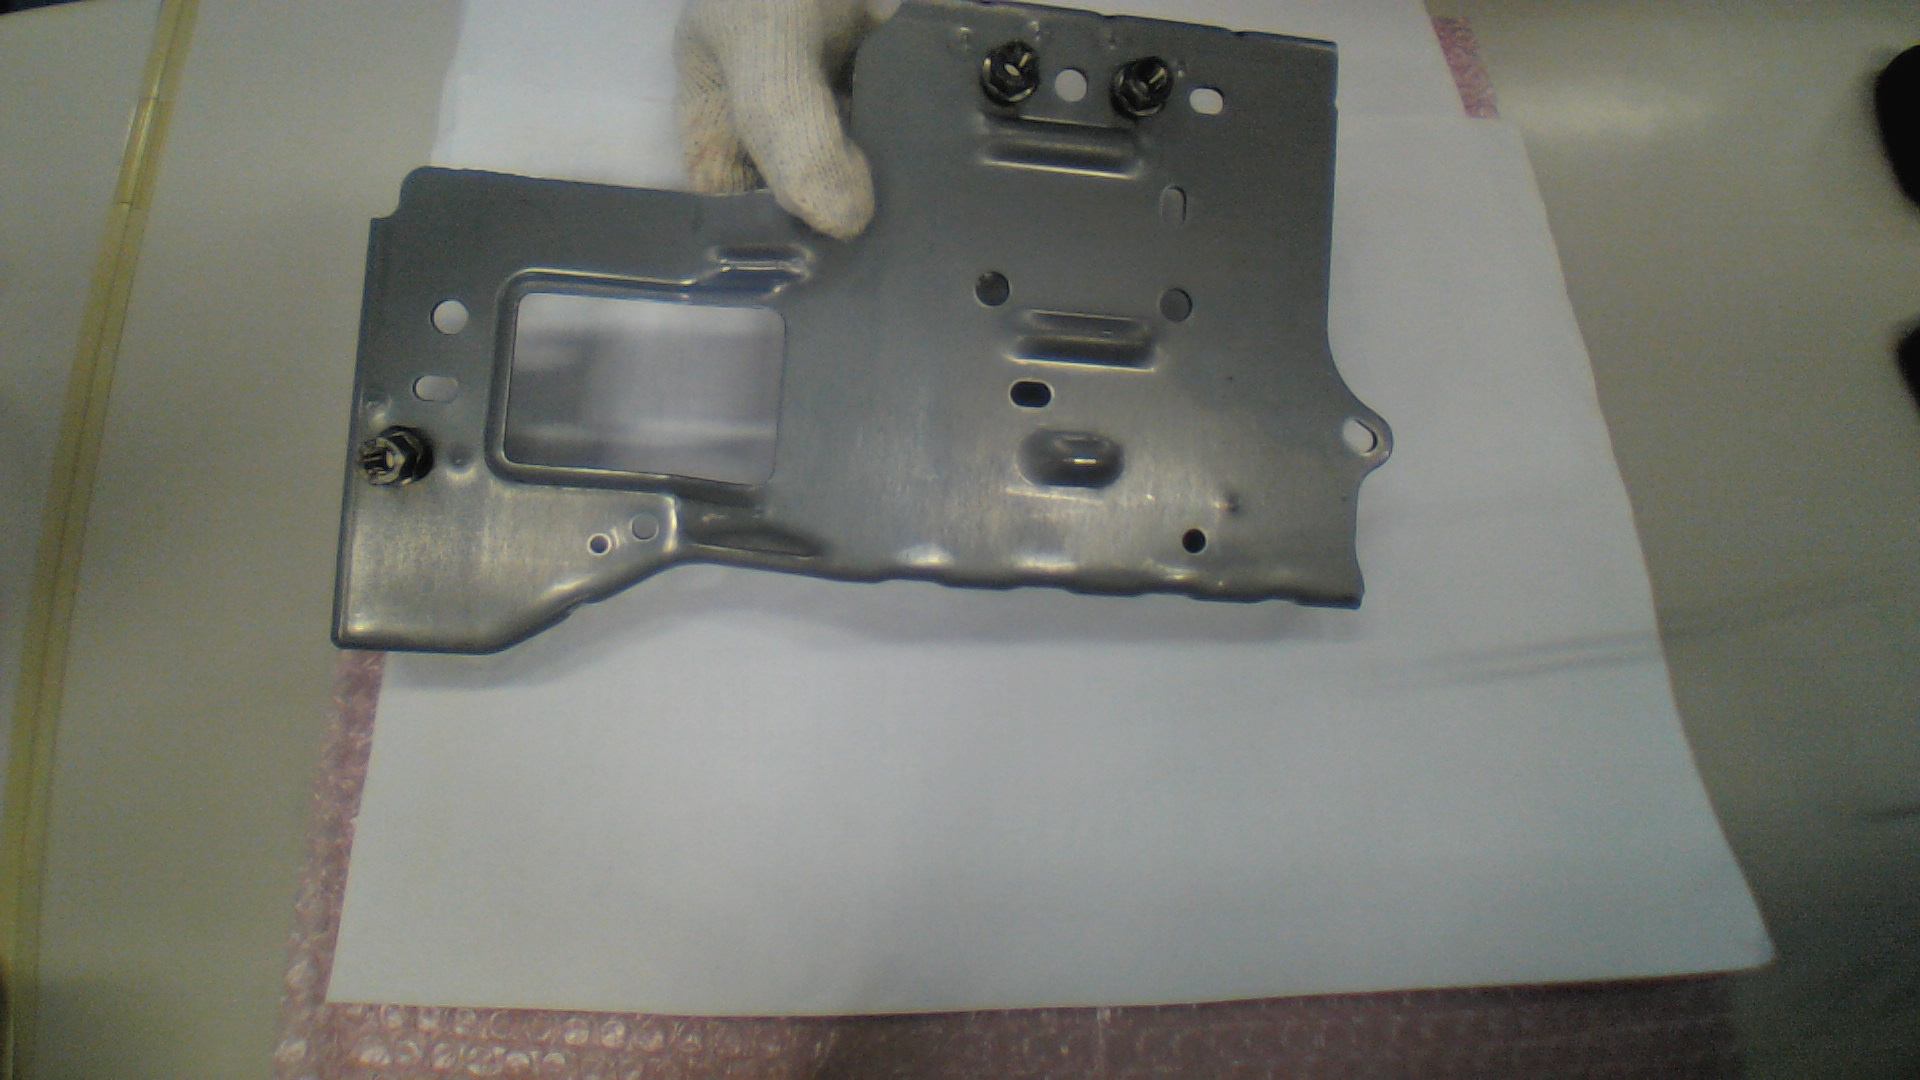dog: (353, 427, 431, 487), (1109, 55, 1175, 121), (980, 41, 1043, 108)
